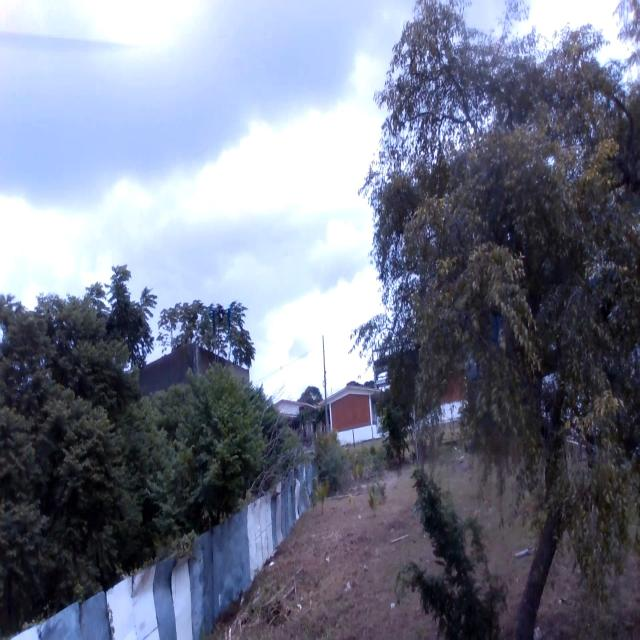-uav-: (206, 298, 235, 343)
